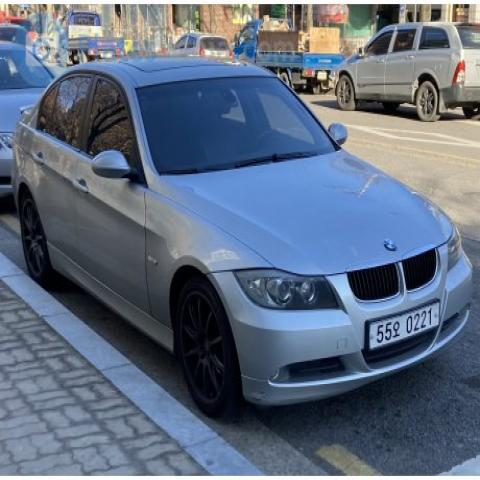LP: (362, 293, 444, 368)
